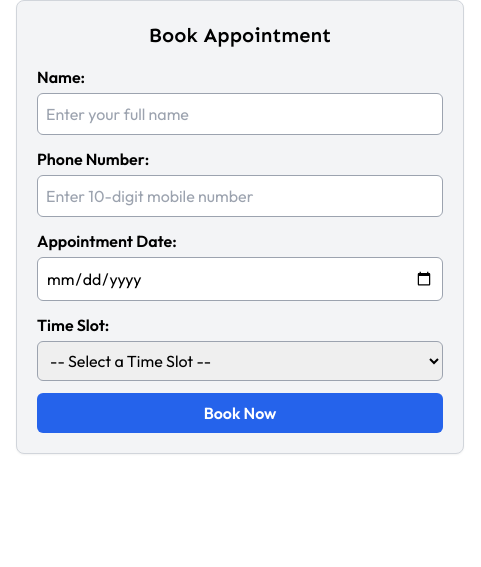
AppointmentForm › shows validation errors for invalid name and phone number
The image size is (481, 567).
Type "1234" into the field labelled "Name:".
click(240, 114); type("1234")  # box [37,93,443,135]
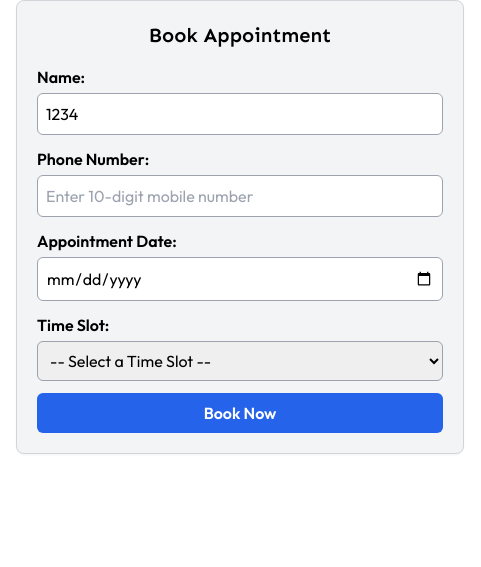
Type "123" into the field labelled "Phone Number:".
click(240, 196); type("123")  # box [37,175,443,217]
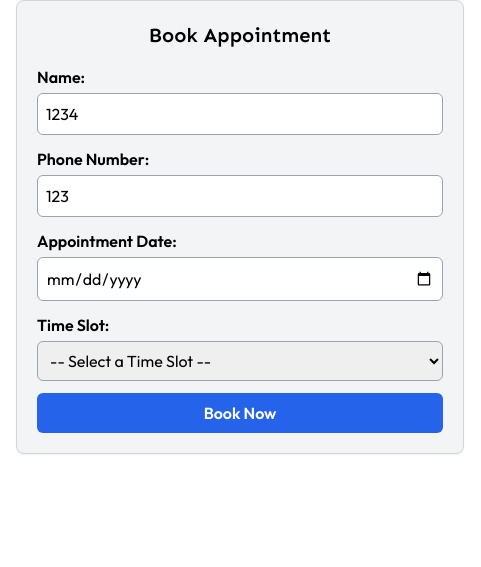
Click the button "Book Now".
click(240, 413)  # box [37,393,443,433]
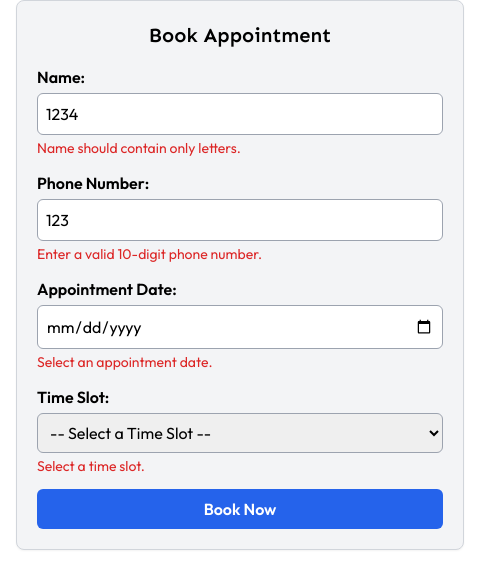
Now the text "Name should contain only letters." is shown, box [37,139,241,157]
Now the text "Enter a valid 10-digit phone number." is shown, box [37,245,262,263]
